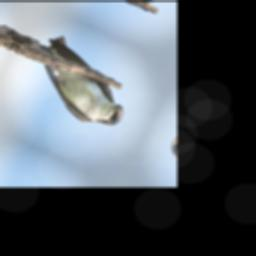Swallow: (17, 28, 143, 136)
